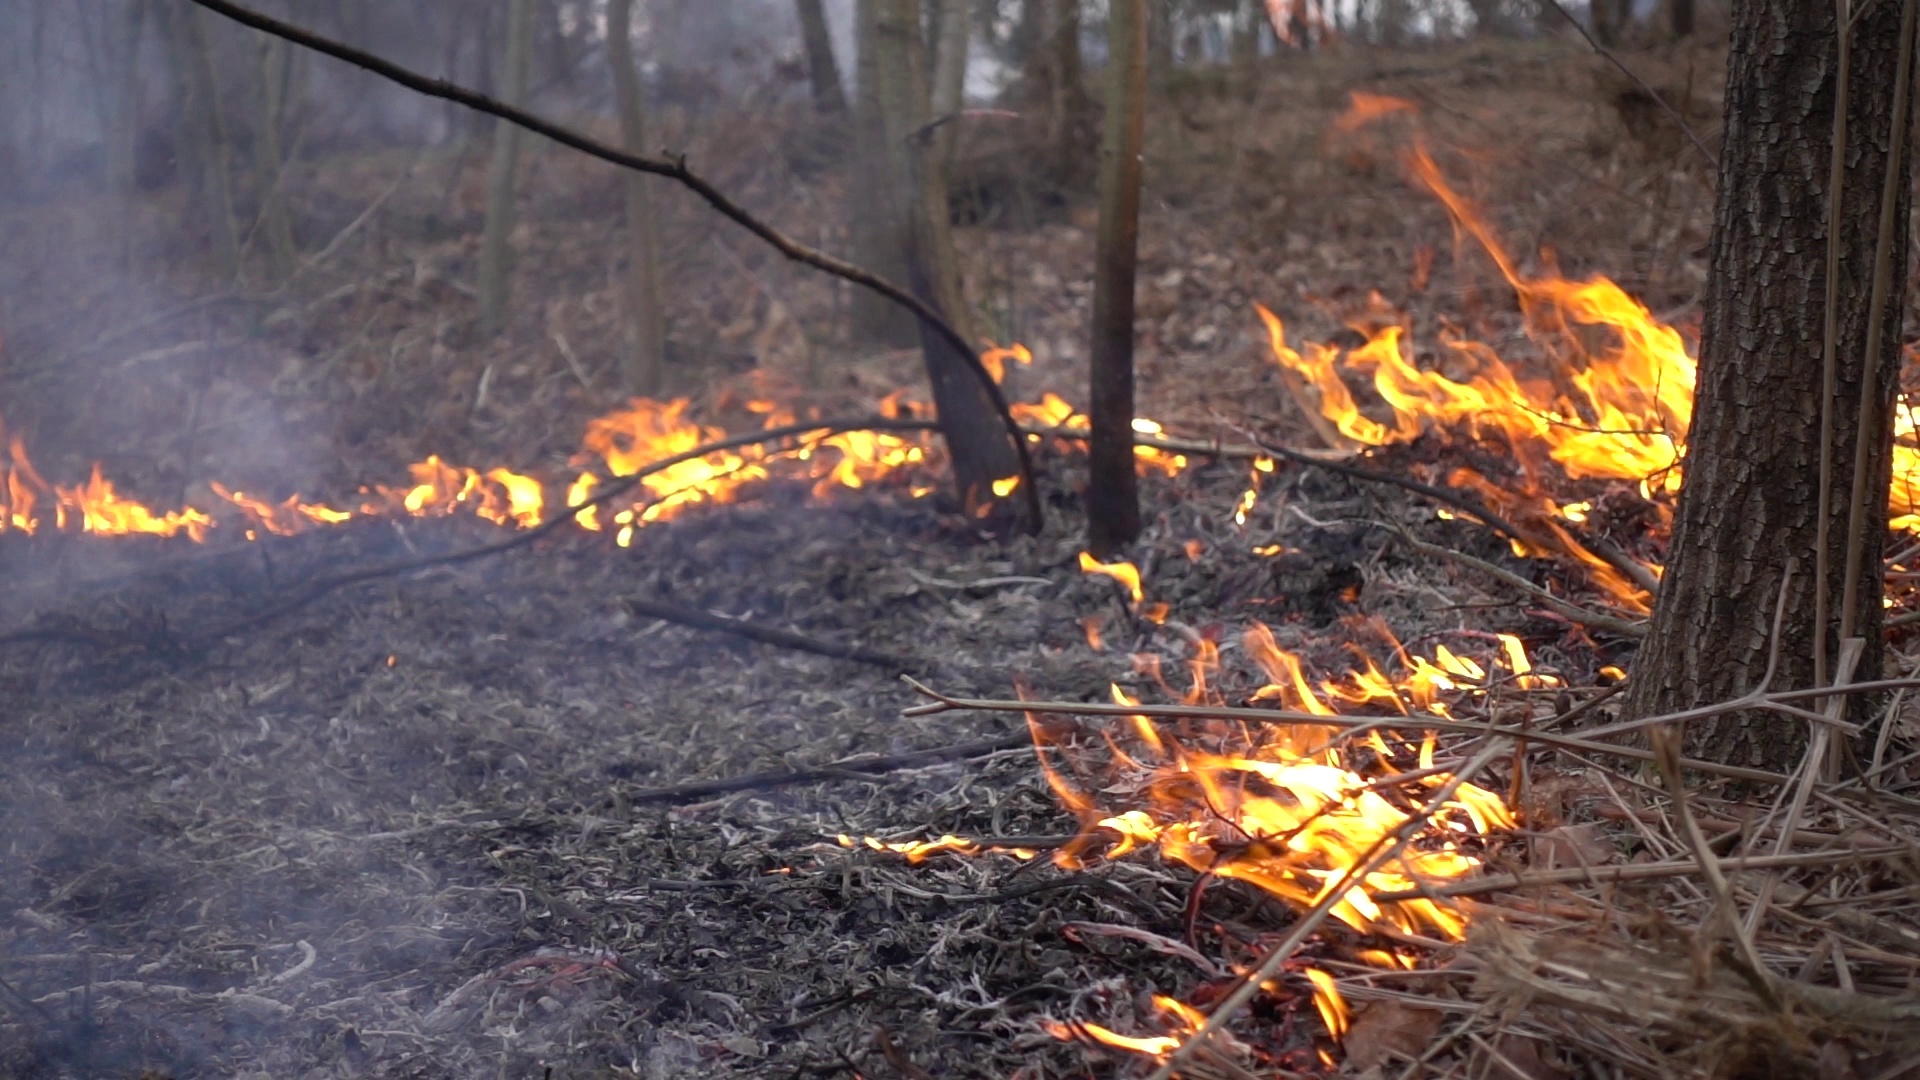fire: (1075, 564, 1557, 963), (1244, 257, 1706, 527), (575, 402, 915, 516), (69, 477, 204, 539), (407, 465, 538, 524), (1888, 400, 1920, 535), (1, 438, 40, 538)
